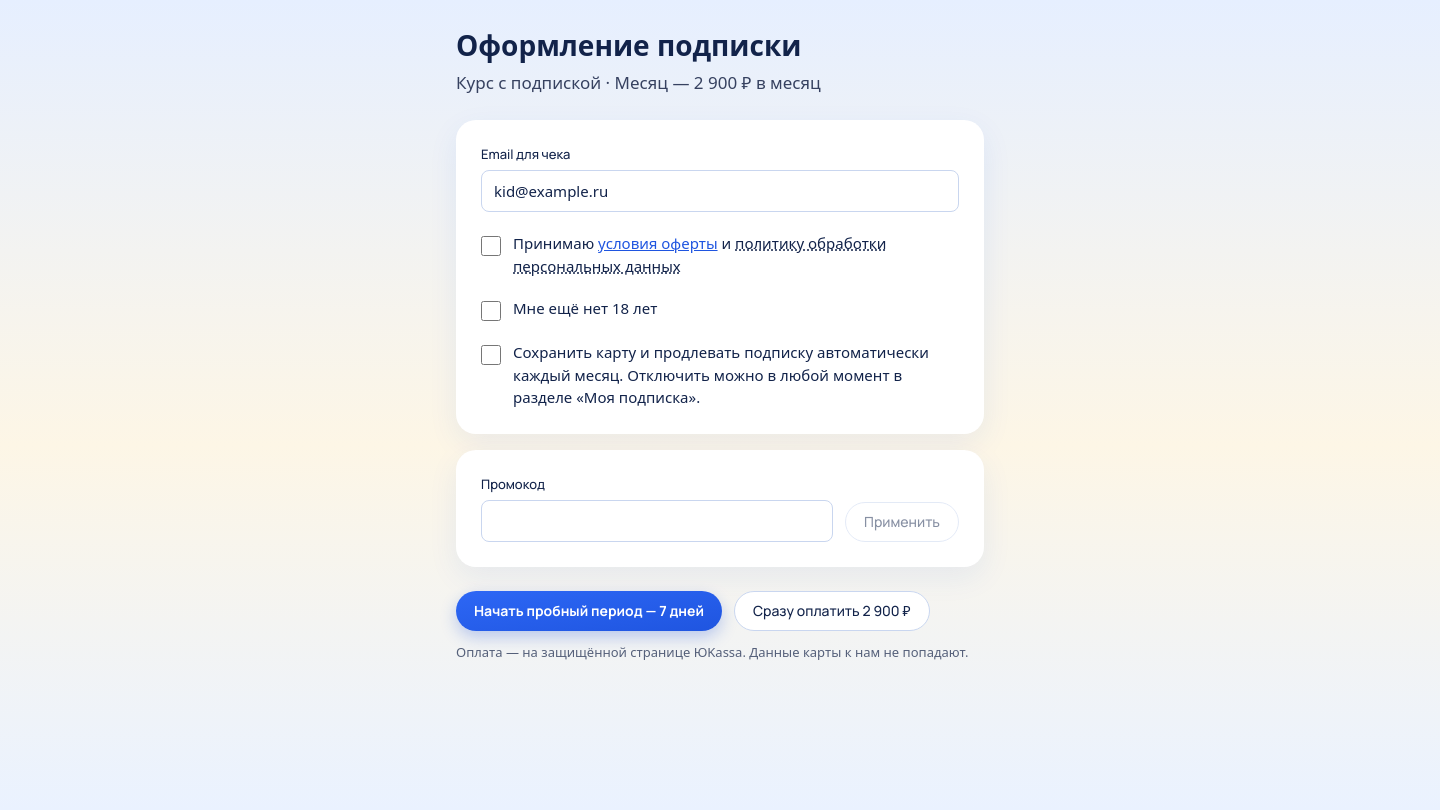
Test: оформление › несовершеннолетний — нужно согласие родителя
The width and height of the screenshot is (1440, 810).
Click the checkbox with test id "checkout-offer" at (491, 246), box [481,236,501,256]
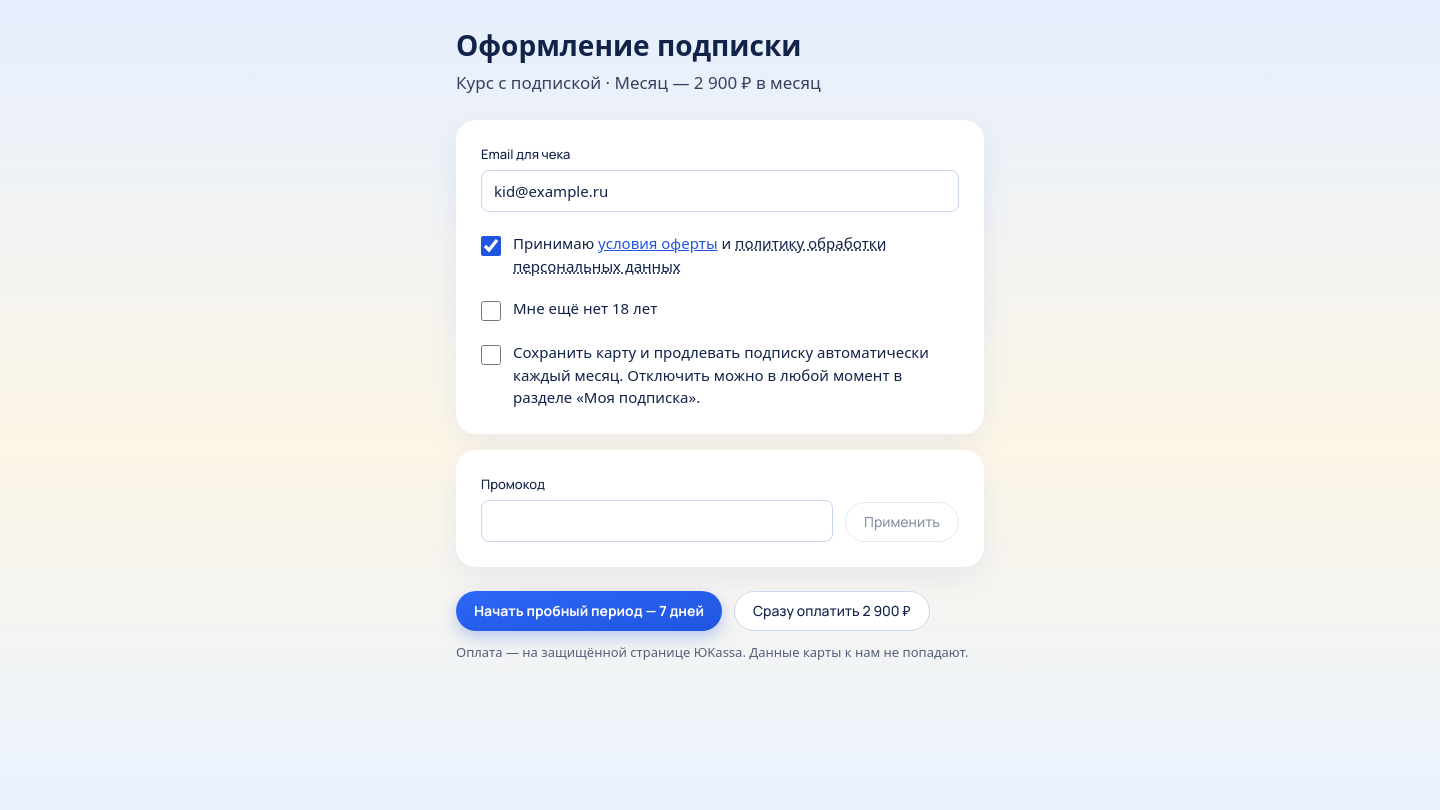
Click the checkbox with test id "checkout-minor" at (491, 311), box [481,301,501,321]
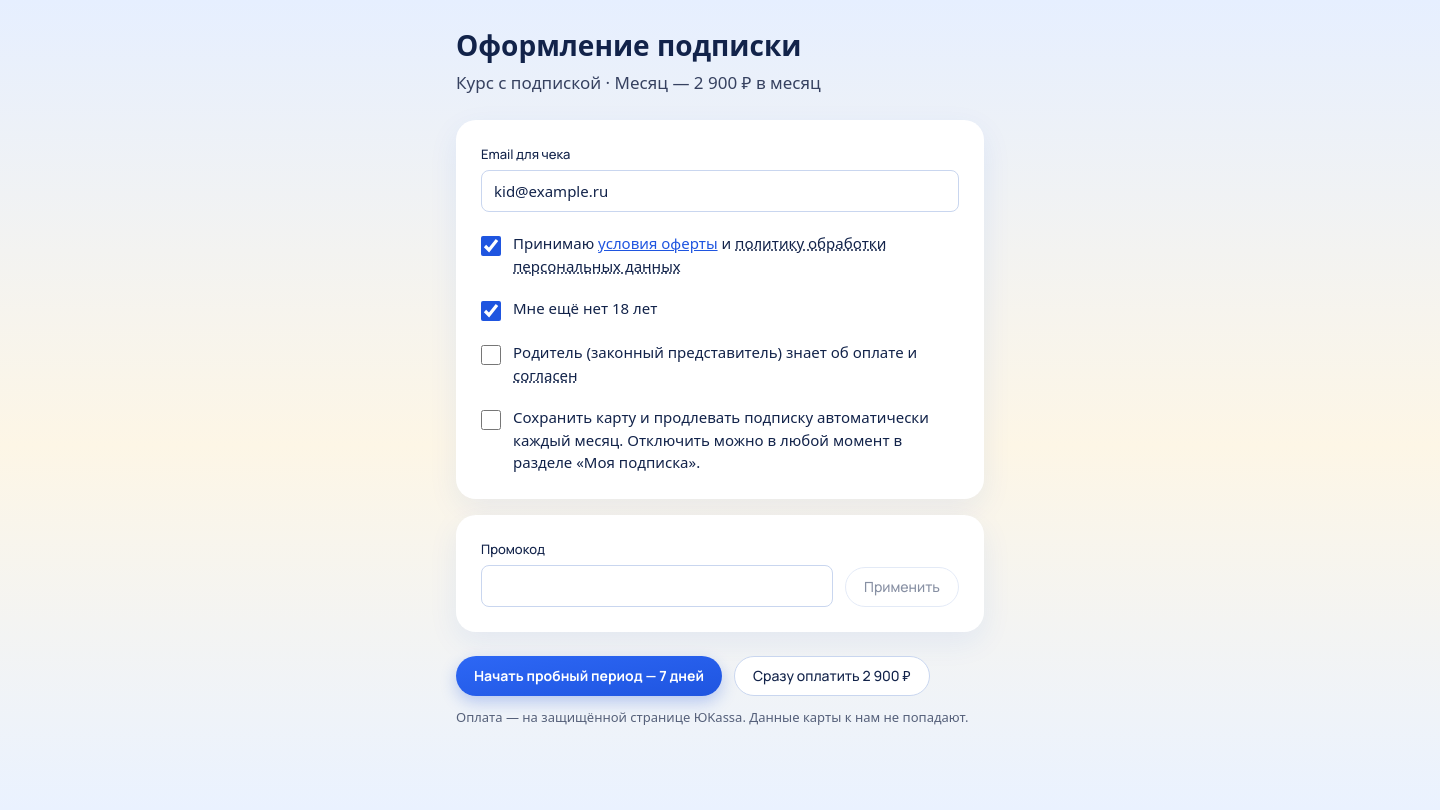
Click the button with test id "checkout-pay" at (832, 676), box [734,656,930,696]
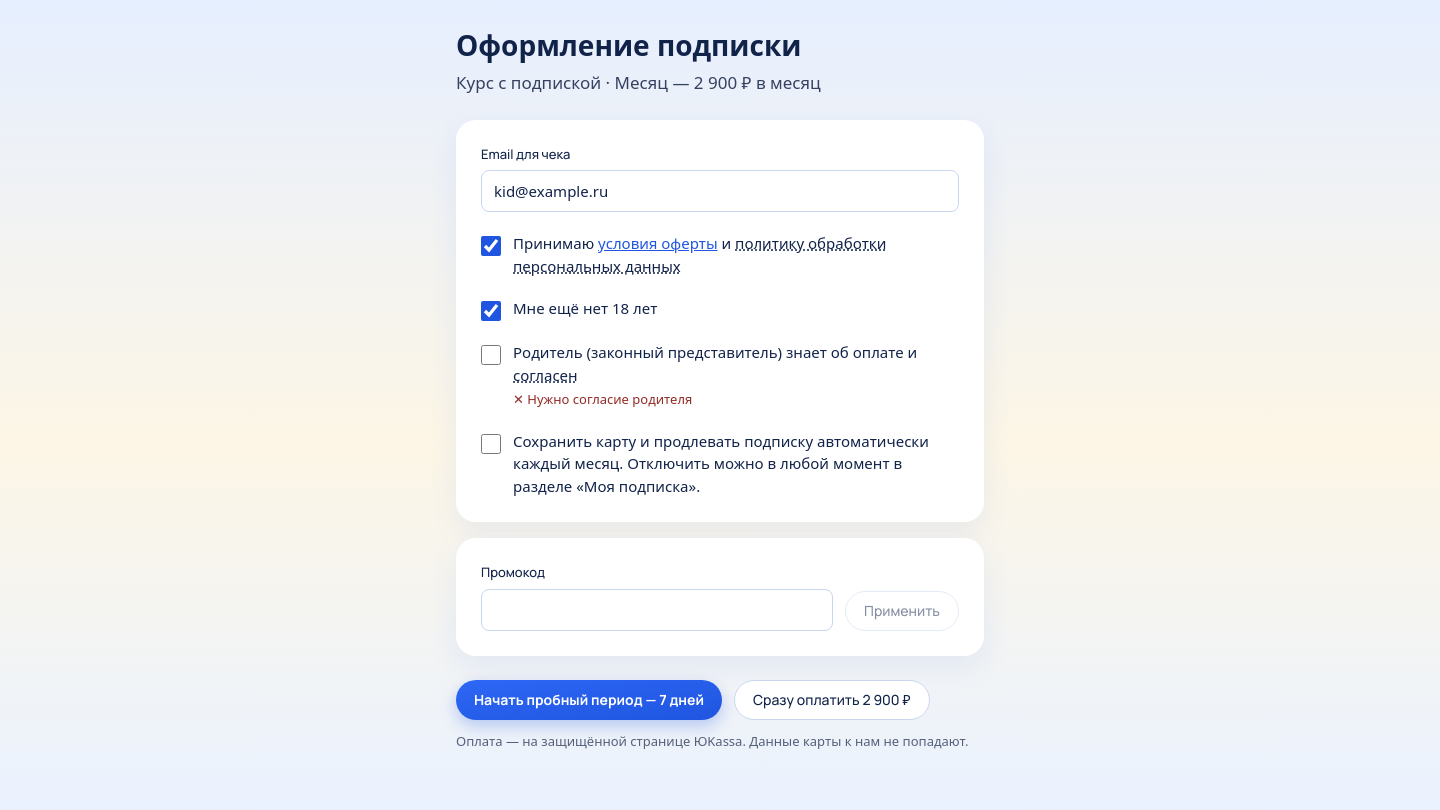
Check: the text "✕ Нужно согласие родителя" is shown, box [513,390,692,408]
